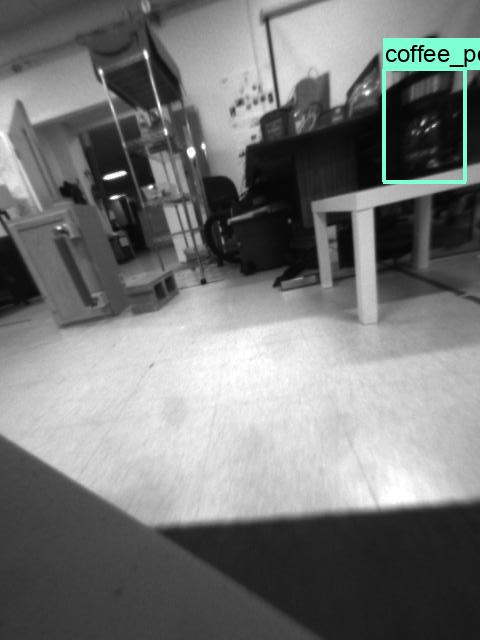coffee_pot: (377, 75, 465, 173)
